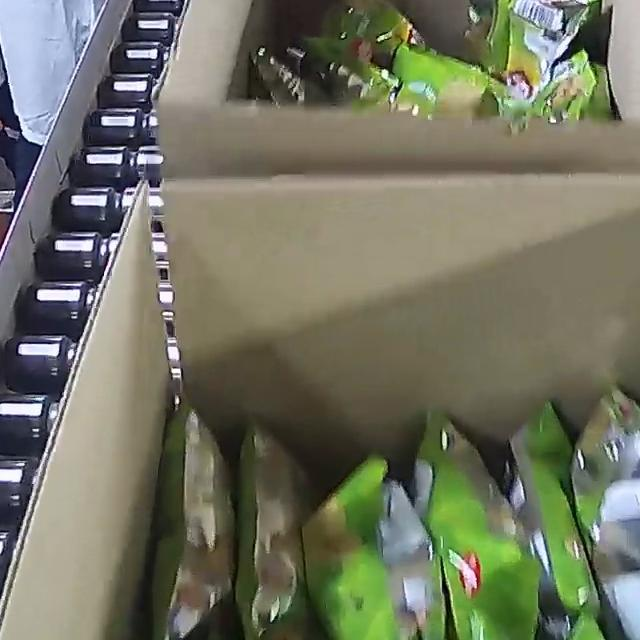yogurt: (145, 380, 640, 640), (252, 0, 610, 125)
